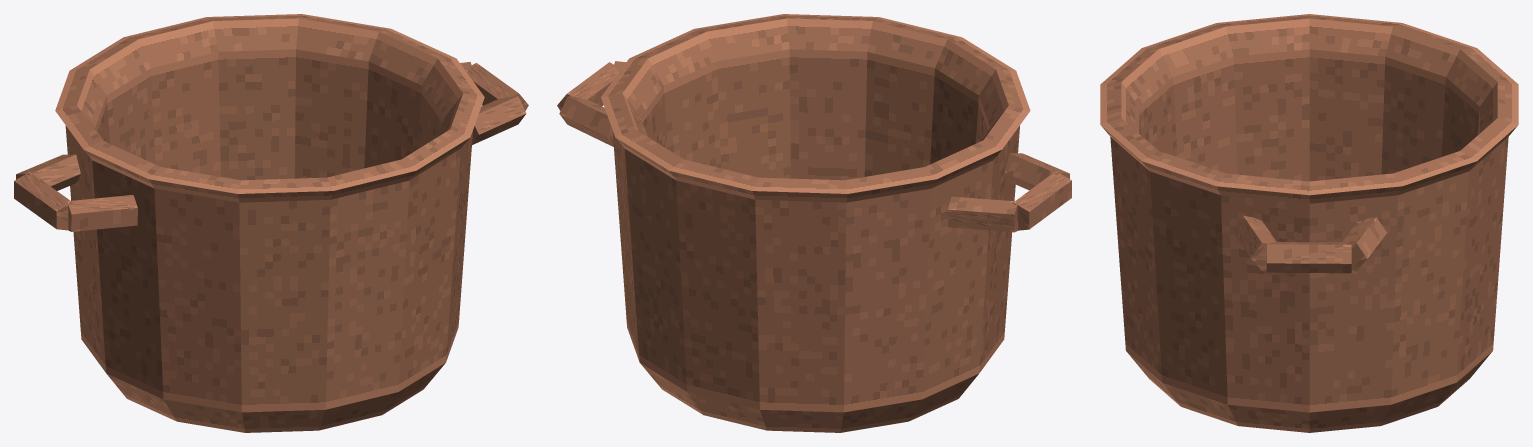
Rendered from pot_makeshift_copper.glb.
3 views of the same model, side by side, from view 1: azimuth 30°, elevation 25°; view 2: azimuth 150°, elevation 25°; view 3: azimuth 270°, elevation 25° (orthographic).
Parts seen in each view (by area): view 1: block_open metal pot, block_pot handle 2 (×2), block_pot handle 1 (×2), block_pot handle 0; view 2: block_open metal pot, block_pot handle 0 (×2), block_pot handle 1 (×2), block_pot handle 2; view 3: block_open metal pot, block_pot handle 1, block_pot handle 2, block_pot handle 0.
Boxes of the visible parts, x1,y1,x2,y2 form: block_open metal pot: (55, 14, 484, 432); block_pot handle 2 (×2): (67, 96, 526, 231); block_pot handle 1 (×2): (14, 63, 528, 230); block_pot handle 0: (16, 154, 80, 190); block_open metal pot: (601, 14, 1030, 432); block_pot handle 0 (×2): (559, 96, 1018, 232); block_pot handle 1 (×2): (557, 62, 1071, 230); block_pot handle 2: (1005, 153, 1069, 190); block_open metal pot: (1100, 14, 1518, 432); block_pot handle 1: (1266, 242, 1351, 273); block_pot handle 2: (1232, 215, 1276, 270); block_pot handle 0: (1342, 217, 1386, 271).
Size of the model in its own units: 0.2 by 0.1071 by 0.154.
2 materials, 2 textured.
